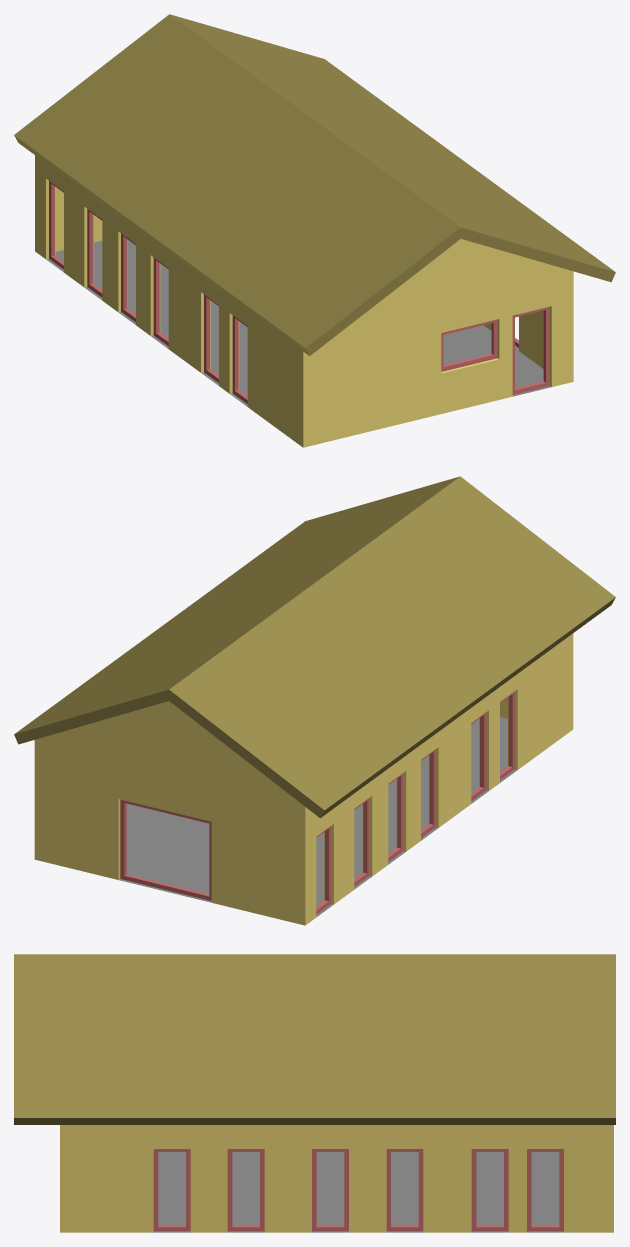
Rendered from result.glb.
The picture shows the model from 3 angles, top to bottom: view 1: azimuth 30°, elevation 25°; view 2: azimuth 150°, elevation 25°; view 3: azimuth 270°, elevation 25°; orthographic projection. The views are drawn at different scales.
Visible parts, largest first — view 1: 6408d953-bc70-48f2-b28c-d357eb34f682__undefined (×2), 8f6eedc7-3102-412a-b7a3-7c597dd5519e__undefined, 8c122f3c-b25c-4253-a8e7-3ceb51a203f7__Plane_28, 67a70933-d64e-4c93-92a7-e7dfdfd6c84f__Box, ced5a3bd-3954-445a-924b-87a1b97511aa__Box_3, 25fdfaa7-8fe2-439f-8e65-87c471ddcc2c__Box_18, 851b5d20-b916-4105-bc62-ee8765ea942e__Box_24, 9f785fac-0870-46c9-8c17-6b0913767a4b__Box_12, 3eb3fe76-d702-4783-af2b-c3a58970a721__Box_21; view 2: 6408d953-bc70-48f2-b28c-d357eb34f682__undefined (×2), 8f6eedc7-3102-412a-b7a3-7c597dd5519e__undefined, 8c122f3c-b25c-4253-a8e7-3ceb51a203f7__Plane_28, 4afb0827-1a07-4bd8-9190-5b9625c66c6d__Box_9, 3eb3fe76-d702-4783-af2b-c3a58970a721__Box_21, e912cde2-1ac2-429d-8867-d8eca4ce1cc0__Box_27, b4703542-ddd3-4e43-9fed-c3aa49cdb2d3__Box_15, 851b5d20-b916-4105-bc62-ee8765ea942e__Box_24, 25fdfaa7-8fe2-439f-8e65-87c471ddcc2c__Box_18, 9f785fac-0870-46c9-8c17-6b0913767a4b__Box_12; view 3: 6408d953-bc70-48f2-b28c-d357eb34f682__undefined, 8f6eedc7-3102-412a-b7a3-7c597dd5519e__undefined, 8c122f3c-b25c-4253-a8e7-3ceb51a203f7__Plane_28, 6b8f7a61-4228-4300-9de4-3bb20874ddd5__Box_48, 1ce3a459-de24-46d1-b4bf-61c798444c9b__Box_51, 14b96fb4-25b8-483e-b259-634ecaaec810__Box_60, 69261a29-69ec-421c-9aa2-994dd05c2383__Box_57, d61d86db-f300-4e59-9e21-20da8af681aa__Box_54, e12dd53f-5ff2-4e9d-8a9c-2eb1fdf1f5be__Box_63.
Boxes of the visible parts, <box> form: 6408d953-bc70-48f2-b28c-d357eb34f682__undefined (×2): <box>14,14,615,355</box>; 8f6eedc7-3102-412a-b7a3-7c597dd5519e__undefined: <box>35,155,573,447</box>; 8c122f3c-b25c-4253-a8e7-3ceb51a203f7__Plane_28: <box>46,240,550,406</box>; 67a70933-d64e-4c93-92a7-e7dfdfd6c84f__Box: <box>512,306,549,394</box>; ced5a3bd-3954-445a-924b-87a1b97511aa__Box_3: <box>441,319,497,371</box>; 25fdfaa7-8fe2-439f-8e65-87c471ddcc2c__Box_18: <box>153,257,168,345</box>; 851b5d20-b916-4105-bc62-ee8765ea942e__Box_24: <box>87,209,102,297</box>; 9f785fac-0870-46c9-8c17-6b0913767a4b__Box_12: <box>232,315,247,403</box>; 3eb3fe76-d702-4783-af2b-c3a58970a721__Box_21: <box>121,233,135,322</box>; 6408d953-bc70-48f2-b28c-d357eb34f682__undefined (×2): <box>14,476,615,818</box>; 8f6eedc7-3102-412a-b7a3-7c597dd5519e__undefined: <box>34,633,573,925</box>; 8c122f3c-b25c-4253-a8e7-3ceb51a203f7__Plane_28: <box>119,717,517,917</box>; 4afb0827-1a07-4bd8-9190-5b9625c66c6d__Box_9: <box>120,799,211,900</box>; 3eb3fe76-d702-4783-af2b-c3a58970a721__Box_21: <box>388,773,403,861</box>; e912cde2-1ac2-429d-8867-d8eca4ce1cc0__Box_27: <box>316,826,331,914</box>; b4703542-ddd3-4e43-9fed-c3aa49cdb2d3__Box_15: <box>471,712,486,800</box>; 851b5d20-b916-4105-bc62-ee8765ea942e__Box_24: <box>354,798,369,886</box>; 25fdfaa7-8fe2-439f-8e65-87c471ddcc2c__Box_18: <box>421,749,435,837</box>; 9f785fac-0870-46c9-8c17-6b0913767a4b__Box_12: <box>500,691,514,779</box>; 6408d953-bc70-48f2-b28c-d357eb34f682__undefined: <box>14,954,615,1124</box>; 8f6eedc7-3102-412a-b7a3-7c597dd5519e__undefined: <box>60,1125,613,1232</box>; 8c122f3c-b25c-4253-a8e7-3ceb51a203f7__Plane_28: <box>153,1152,563,1232</box>; 6b8f7a61-4228-4300-9de4-3bb20874ddd5__Box_48: <box>153,1149,190,1231</box>; 1ce3a459-de24-46d1-b4bf-61c798444c9b__Box_51: <box>227,1149,264,1231</box>; 14b96fb4-25b8-483e-b259-634ecaaec810__Box_60: <box>471,1149,508,1231</box>; 69261a29-69ec-421c-9aa2-994dd05c2383__Box_57: <box>386,1149,423,1231</box>; d61d86db-f300-4e59-9e21-20da8af681aa__Box_54: <box>312,1149,348,1231</box>; e12dd53f-5ff2-4e9d-8a9c-2eb1fdf1f5be__Box_63: <box>527,1149,563,1231</box>.
Size of the model in its own units: 803 by 503 by 1304.
